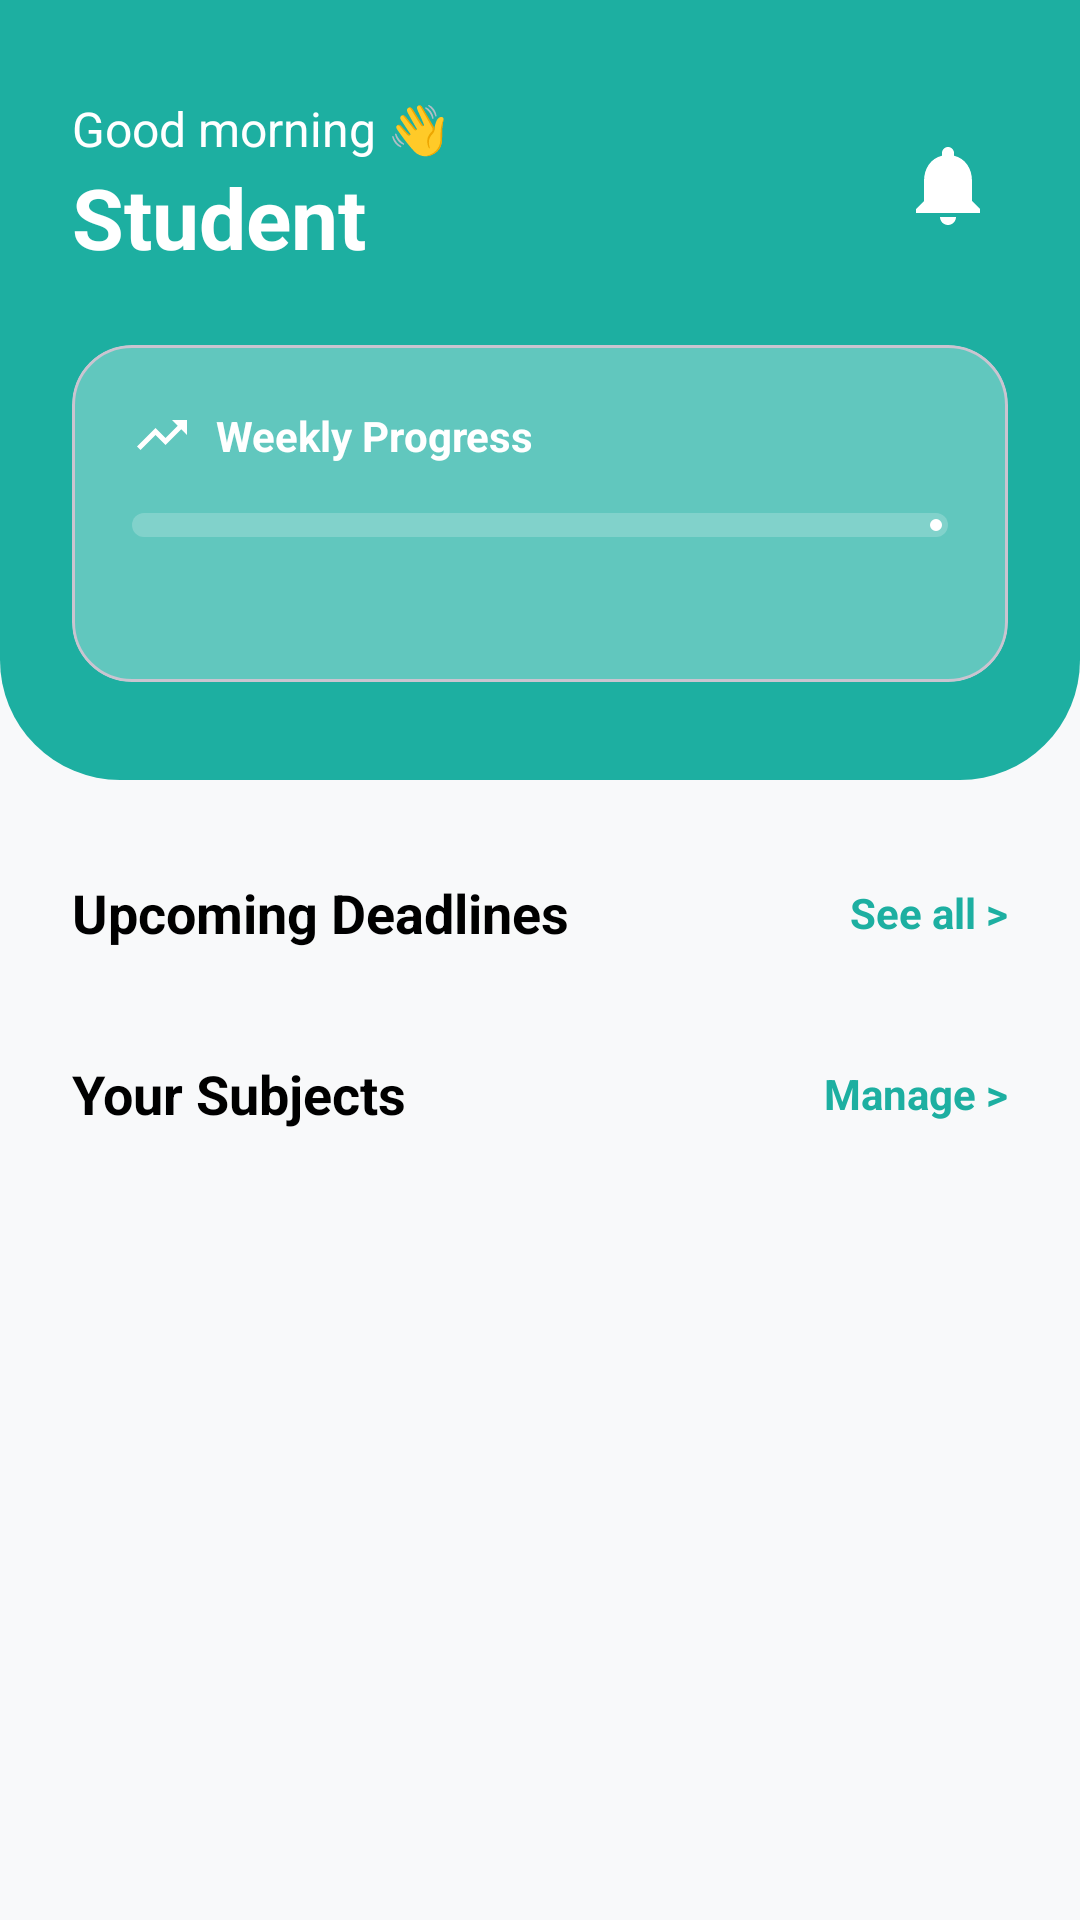

Icons on this 1080x1920 Android screen, each with its box as [x1=x1, y1=y1, x2=x2, y2=y2]:
Notifications: [x1=916, y1=147, x2=980, y2=225]
